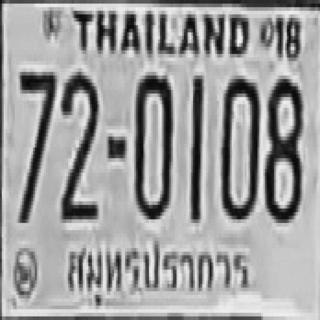N00: (134, 72, 171, 216), (221, 72, 257, 216)
N01: (189, 72, 202, 219), (190, 76, 200, 219)
N02: (59, 66, 98, 218)
N07: (18, 68, 55, 219)
N08: (263, 76, 302, 219)
P57: (60, 229, 257, 316)
